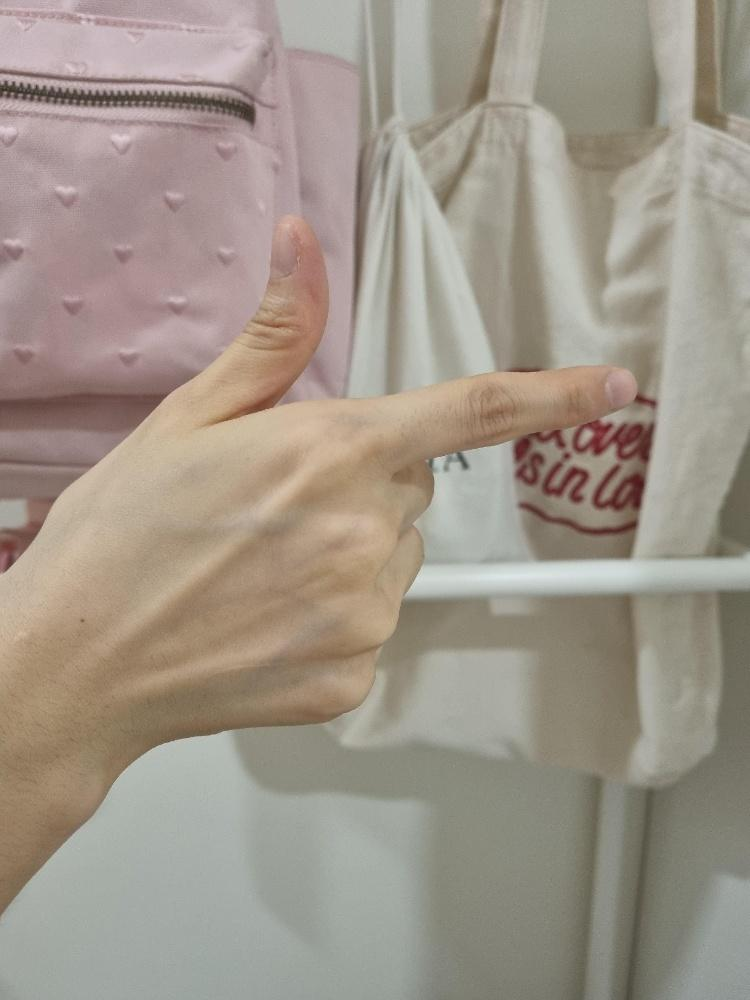g: (50, 212, 639, 733)
